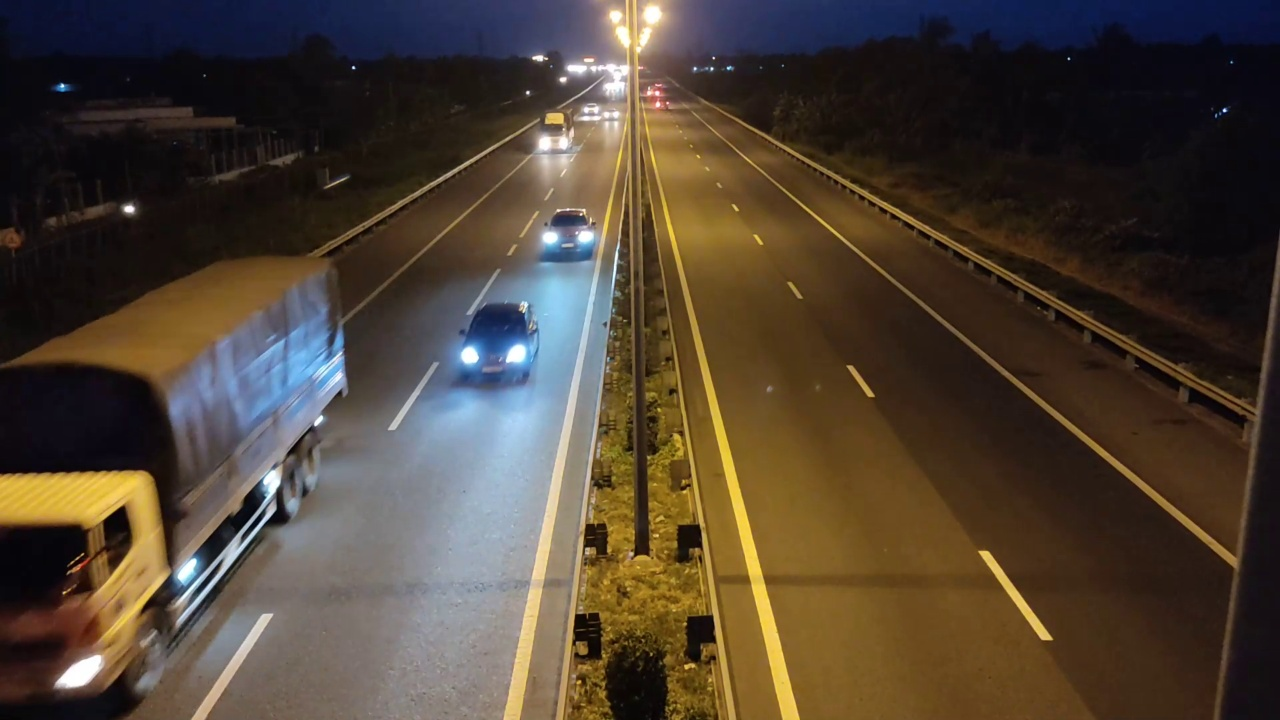car: (455, 300, 541, 387), (537, 207, 597, 261)
truck: (1, 253, 349, 714)
